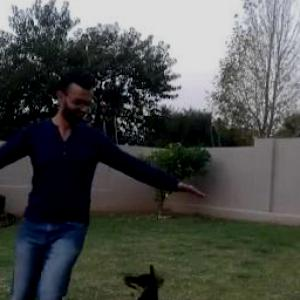land: (0, 82, 170, 299)
